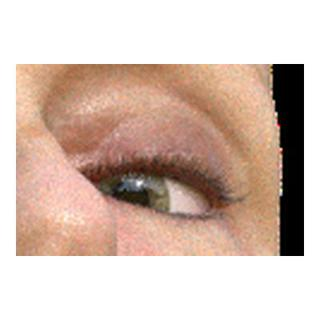pupil: (110, 182, 148, 221)
